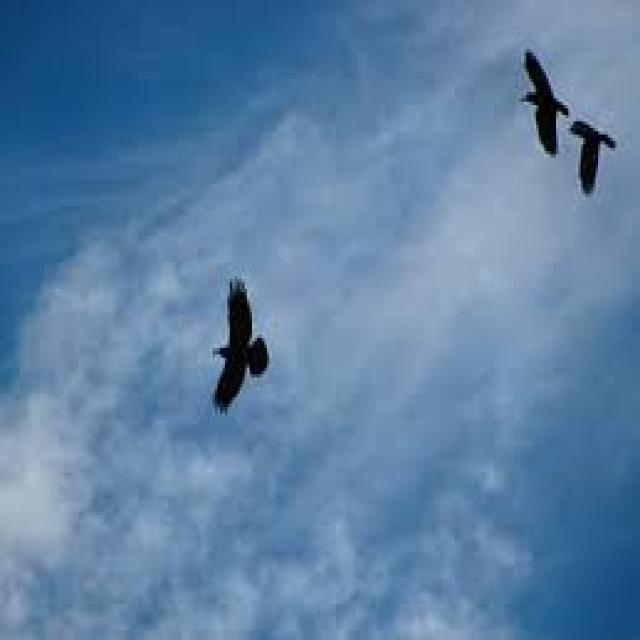bird: (190, 242, 316, 452), (502, 12, 574, 208), (570, 98, 638, 230)
